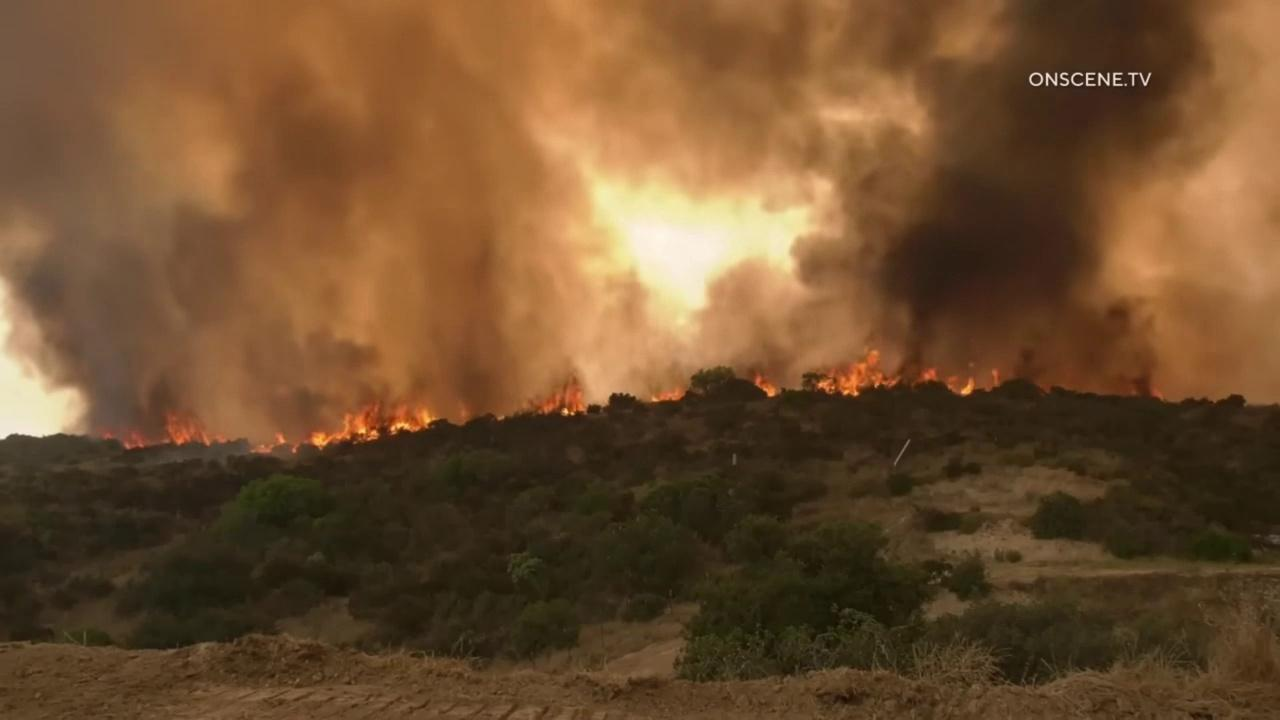fire: (293, 402, 441, 454), (814, 346, 903, 399), (534, 372, 587, 417), (160, 408, 211, 447), (249, 431, 287, 455), (944, 372, 976, 398), (650, 387, 689, 404), (753, 371, 776, 398), (911, 365, 936, 385), (122, 431, 145, 450), (991, 368, 1001, 388), (215, 432, 228, 444), (102, 431, 113, 439)
smoke: (0, 0, 1280, 466)
